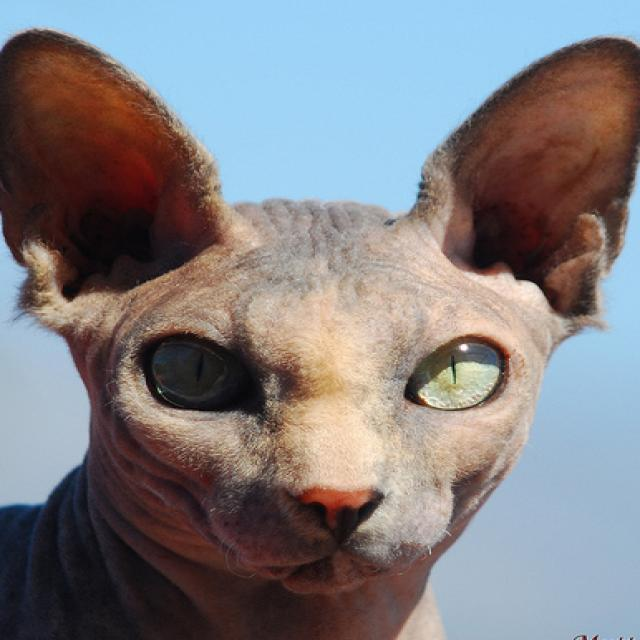Sphynx: (0, 24, 640, 640)
